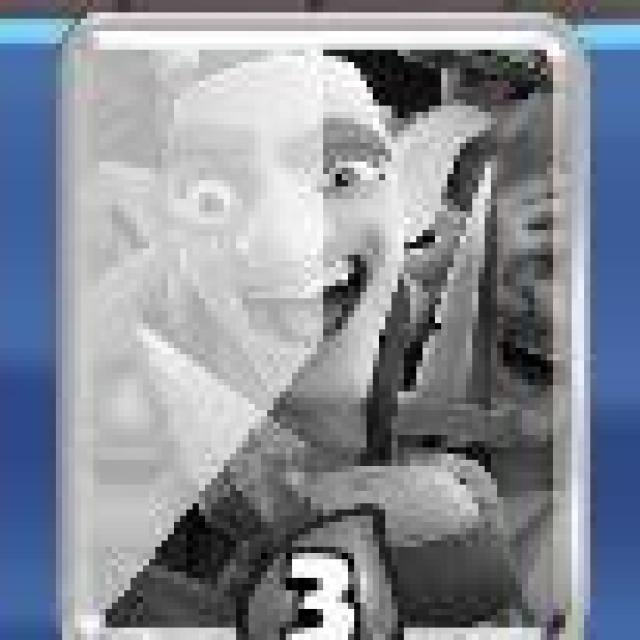Goblin_Gang: (58, 14, 588, 640)
